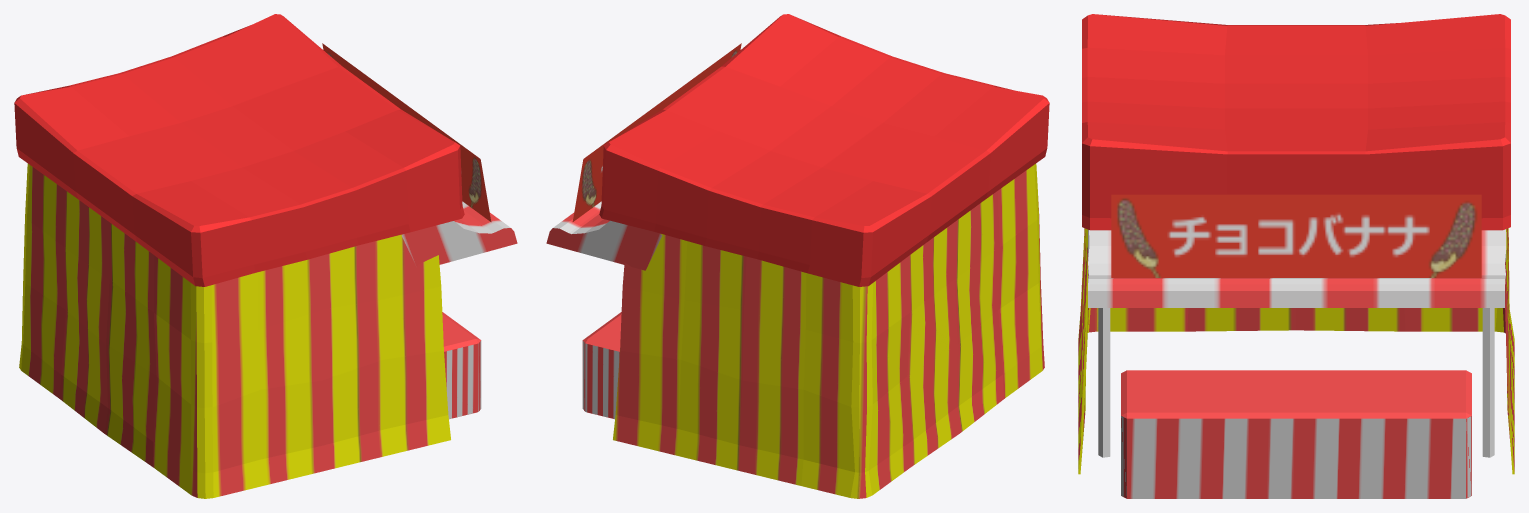
The model's file is rowyataityokobanana_1.fbx.
3 renders of one model, left to right at view 1: azimuth 30°, elevation 25°; view 2: azimuth 150°, elevation 25°; view 3: azimuth 270°, elevation 25°, orthographic. The views are drawn at different scales.
Parts seen in each view (by area): view 1: 立方体, Cube, Cube.001, 立方体.001, 平面; view 2: 立方体, Cube, Cube.001, 立方体.001, 平面; view 3: Cube, 立方体.001, 平面, Cube.001, 立方体, 円柱.
Part boxes in pixels (left/top/right/bottom): 立方体: left=19, top=163, right=450, bottom=498; Cube: left=14, top=14, right=464, bottom=286; Cube.001: left=401, top=201, right=517, bottom=267; 立方体.001: left=442, top=312, right=481, bottom=419; 平面: left=322, top=43, right=491, bottom=221; 立方体: left=613, top=163, right=1044, bottom=498; Cube: left=599, top=14, right=1049, bottom=286; Cube.001: left=546, top=201, right=662, bottom=270; 立方体.001: left=582, top=312, right=621, bottom=419; 平面: left=572, top=43, right=741, bottom=221; Cube: left=1082, top=14, right=1510, bottom=230; 立方体.001: left=1121, top=370, right=1471, bottom=498; 平面: left=1111, top=194, right=1481, bottom=277; Cube.001: left=1088, top=229, right=1506, bottom=307; 立方体: left=1078, top=228, right=1514, bottom=474; 円柱: left=1098, top=308, right=1494, bottom=457.
Size of the model in its own units: 133 by 114 by 132.
Materials: 2 (2 with a texture image).
